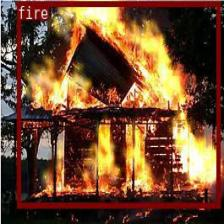fire: (17, 0, 220, 206)
